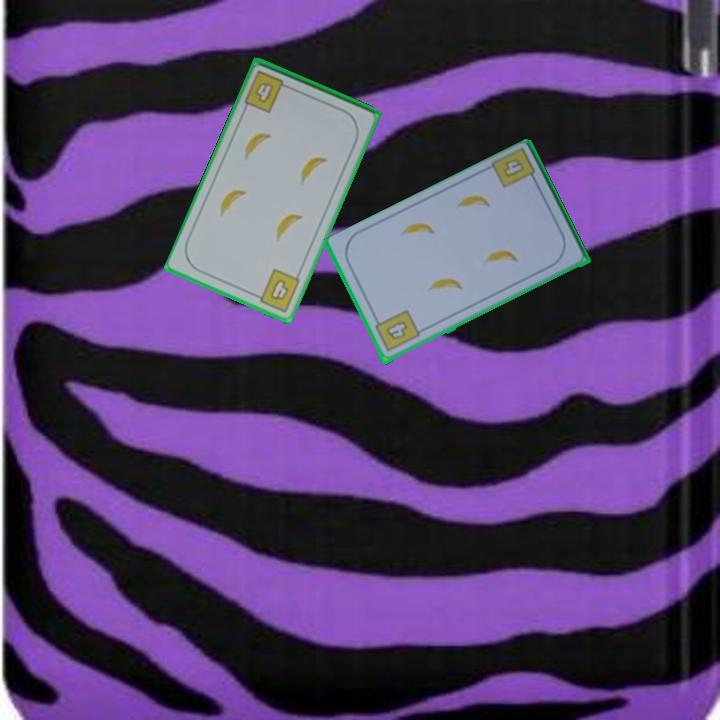4b: (250, 265, 303, 315), (240, 67, 294, 116), (371, 307, 422, 355), (488, 146, 541, 191)
